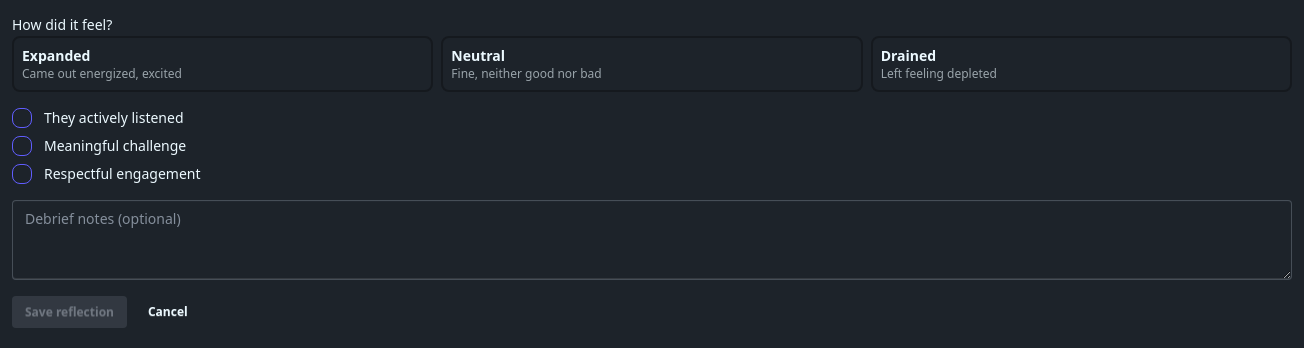
Test: ReflectionForm › enables submit when sentiment is selected
This screenshot has width=1304, height=348.
Click the text "Expanded" at (56, 56), box [22,46,90,65]
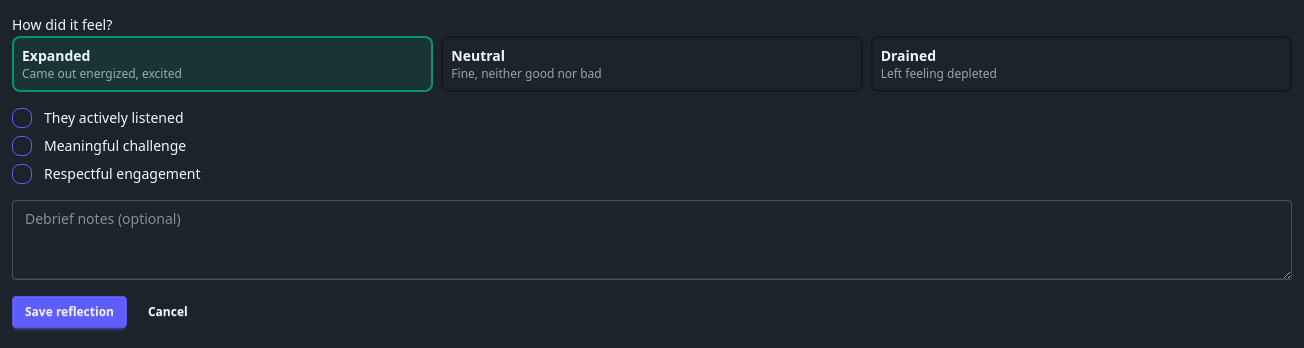
Expected: the button "Save reflection" is enabled, [12,296,127,328]
